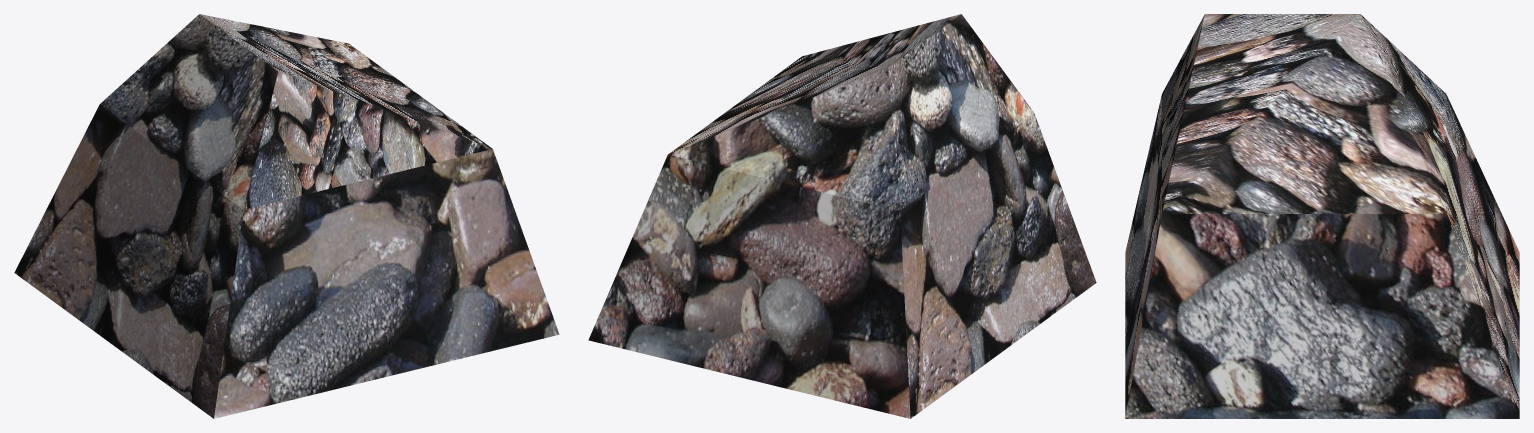
File: pebble_dim.obj
The picture shows the model from 3 angles, left to right: view 1: azimuth 30°, elevation 25°; view 2: azimuth 150°, elevation 25°; view 3: azimuth 270°, elevation 25°; orthographic projection. The views are drawn at different scales.
Parts seen in each view (by area): view 1: Plane; view 2: Plane; view 3: Plane.
Boxes of the visible parts, bbox=[...] form: Plane: bbox=[14, 14, 559, 418]; Plane: bbox=[588, 14, 1096, 418]; Plane: bbox=[1125, 14, 1519, 418].
Bounding box in the file's own units: 0.08 × 0.0646 × 0.08.
Materials: 1 (1 with a texture image).
